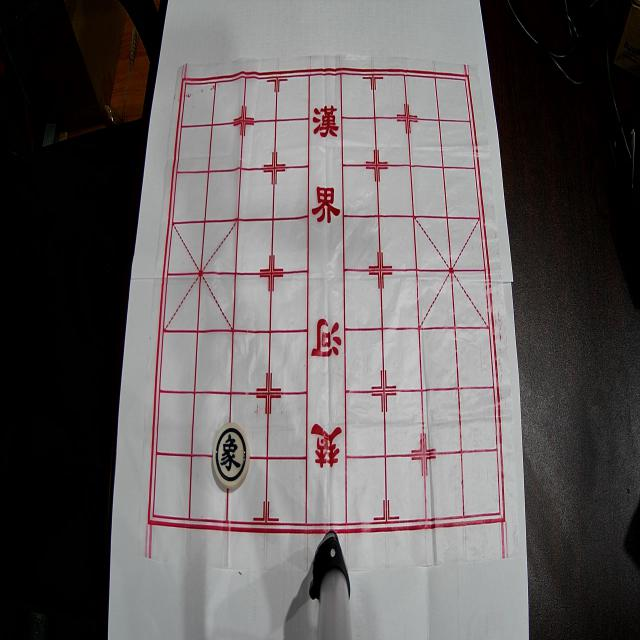black-elephant: (213, 423, 250, 489)
